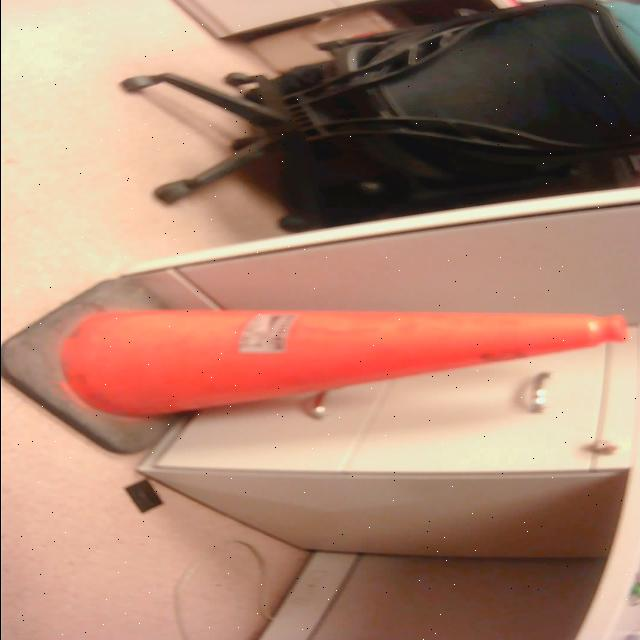traffic cone: (1, 271, 636, 463)
